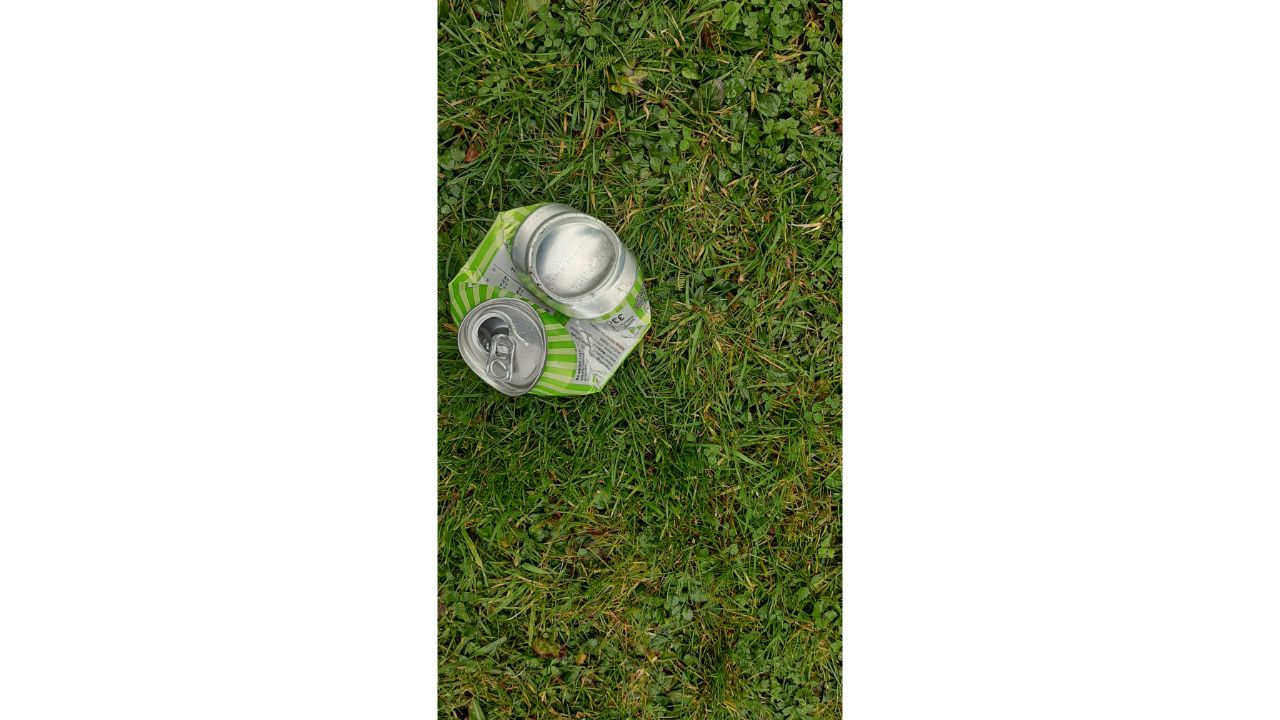Can: (448, 204, 651, 404)
